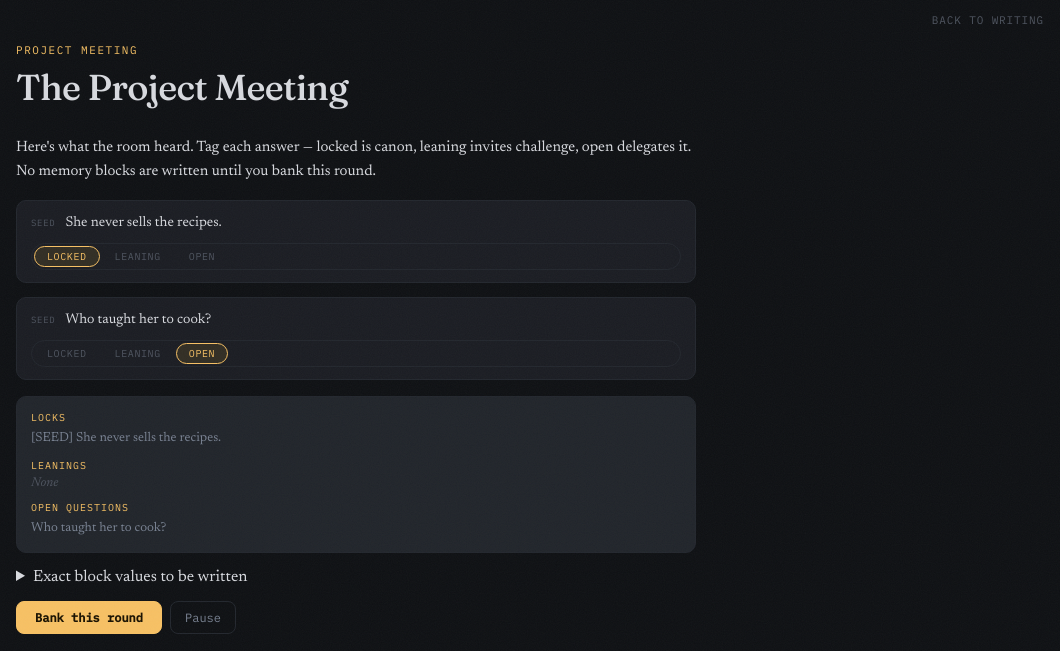
Test: ProjectMeetingPage › readback auto-previews, tags answers, and banks with the writer selections
The width and height of the screenshot is (1060, 651).
Expected: the list with test id "readback-taggable" is shown, top-left (16, 200), bottom-right (696, 380)
Expected: the number of elements with test id "mutability-toggle" is 2, top-left (31, 243), bottom-right (681, 270); top-left (31, 340), bottom-right (681, 367)
// Tagging an answer re-previews with the writer's in-flight choices.
Click the 1st radio button labelled "Leaning" at (138, 257), box top-left (102, 246), bottom-right (174, 267)
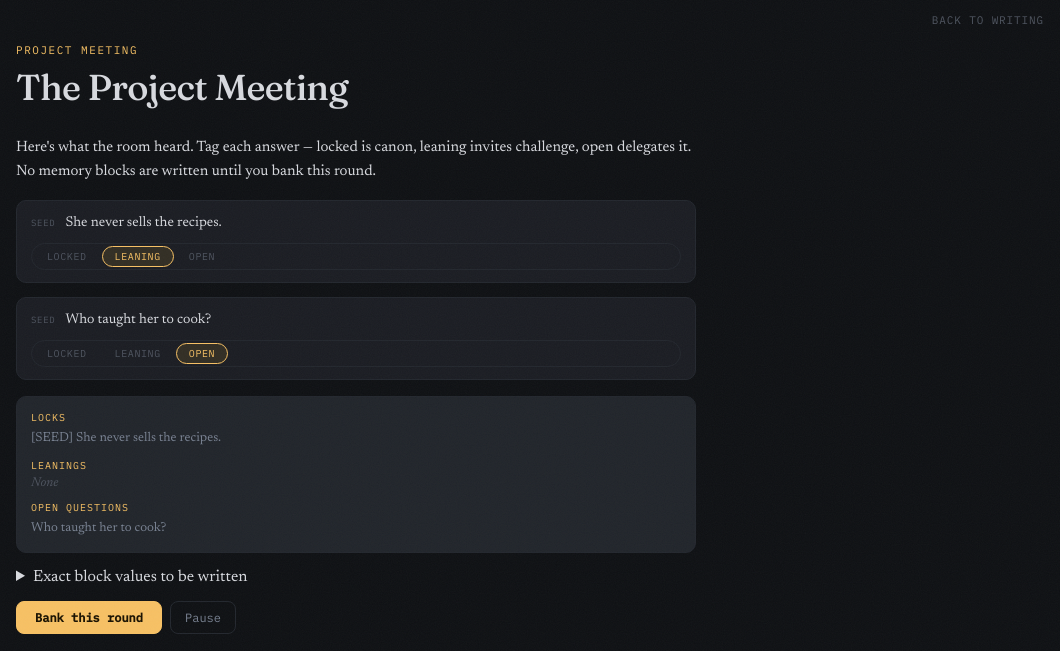
// Banking sends the accumulated selections — not an empty map.
Click the button "Bank this round" at (89, 617), box top-left (16, 601), bottom-right (162, 634)
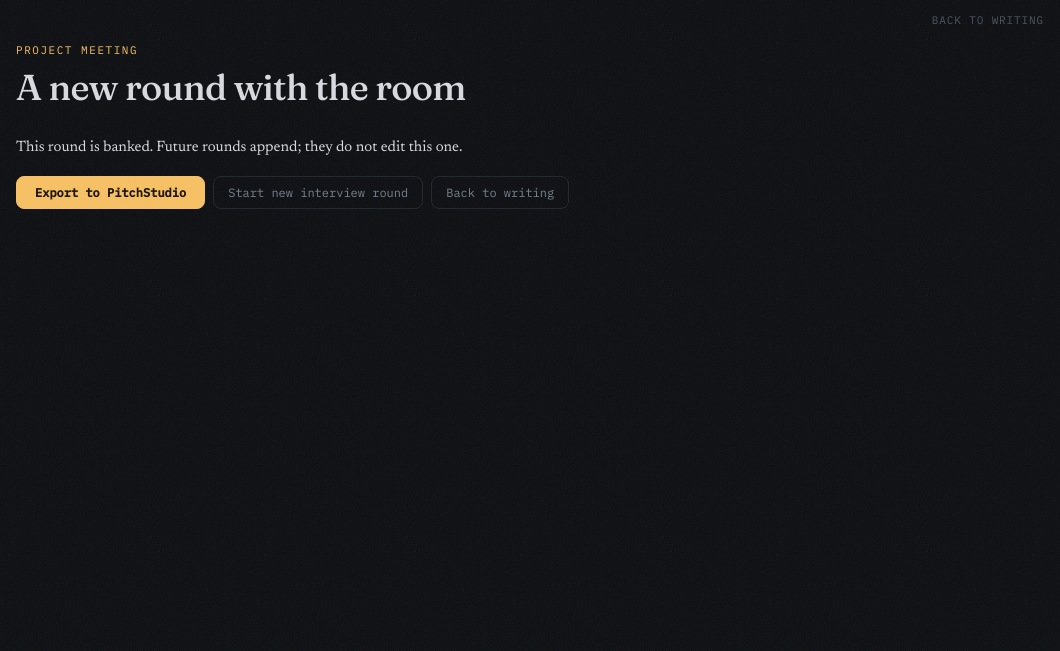
Expected: the text "This round is banked" is shown, top-left (16, 140), bottom-right (462, 155)
